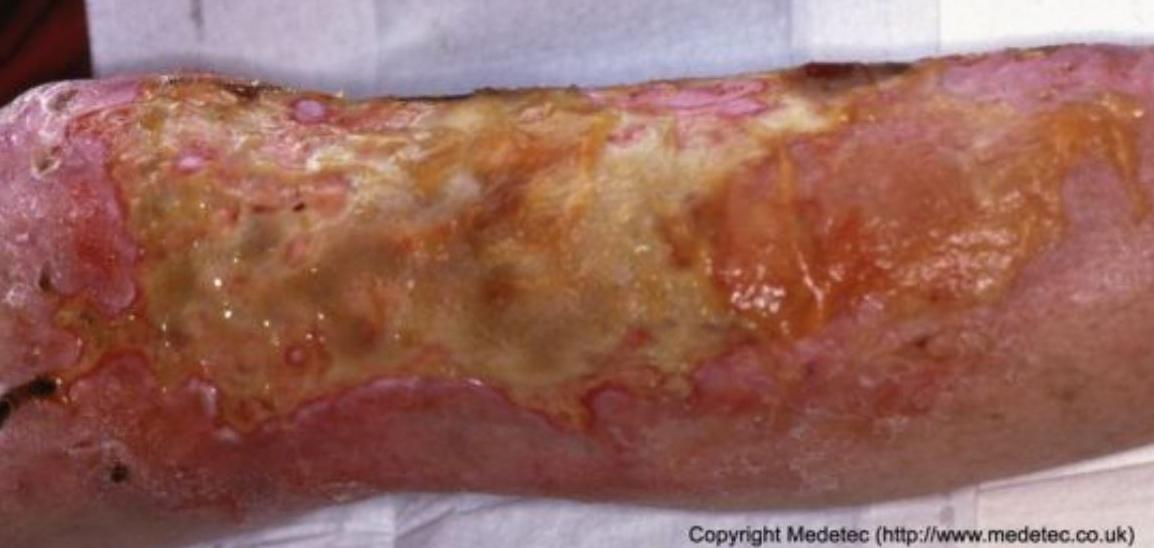NonPU: (10, 96, 1059, 488)
